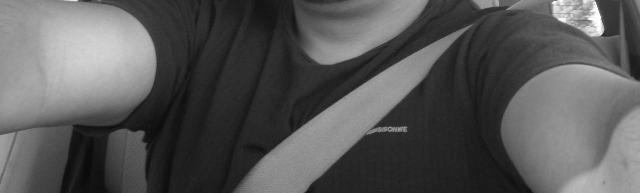Seatbelt: (223, 0, 562, 193)
